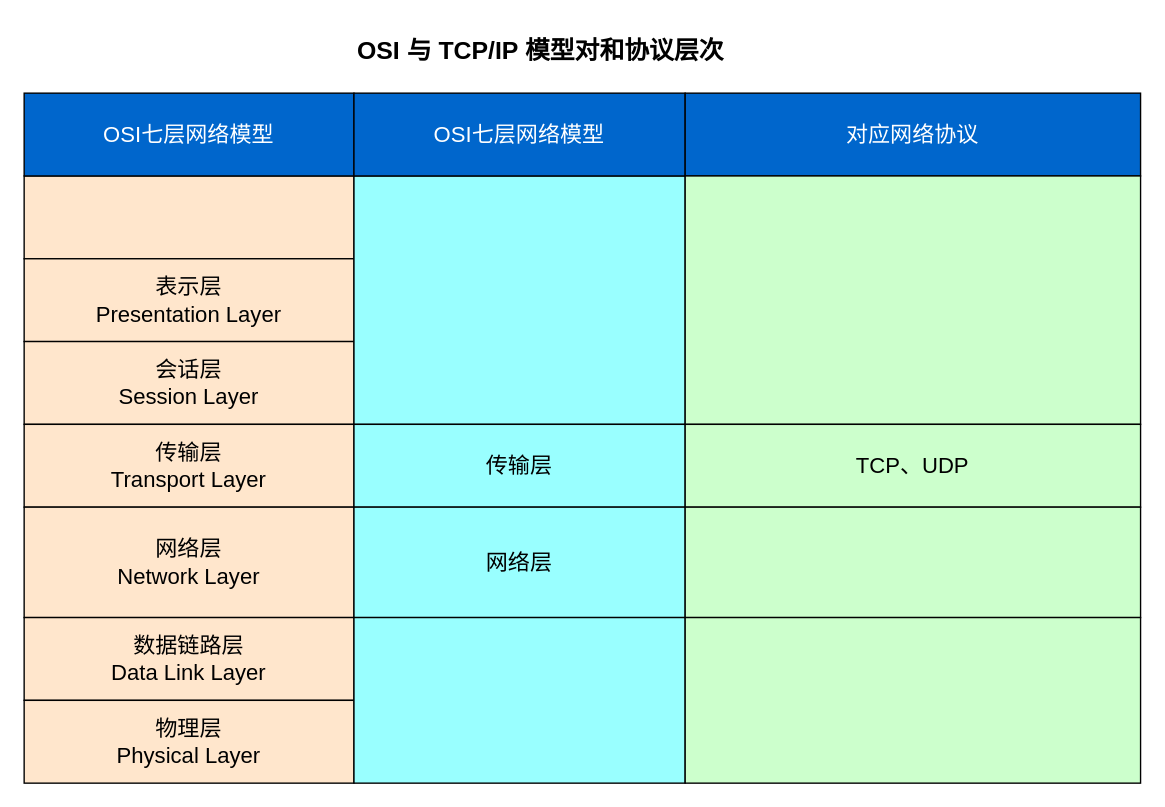
The diagram is 1165 pixels wide and 807 high, and some of its shapes have lost their labels. Each missing label, with the centre of its shape:
HTTP、FTP、TFTP、DHCP、NTP、 POP3、IMAP4、Telnet、SNMP、 SMTP、DNS、LDAP、SSH: pixel 912 299
IP、ICMP 、ARP 、RARP 、OSPF 、VRRP IGMP 、IS-IS 、IPSec 、GRE: pixel 912 562
PPP、PPTP、以太网: pixel 912 699
应用层: pixel 519 299
应用层 Application Layer: pixel 188 217
网络接口层 网际接入层: pixel 519 699
